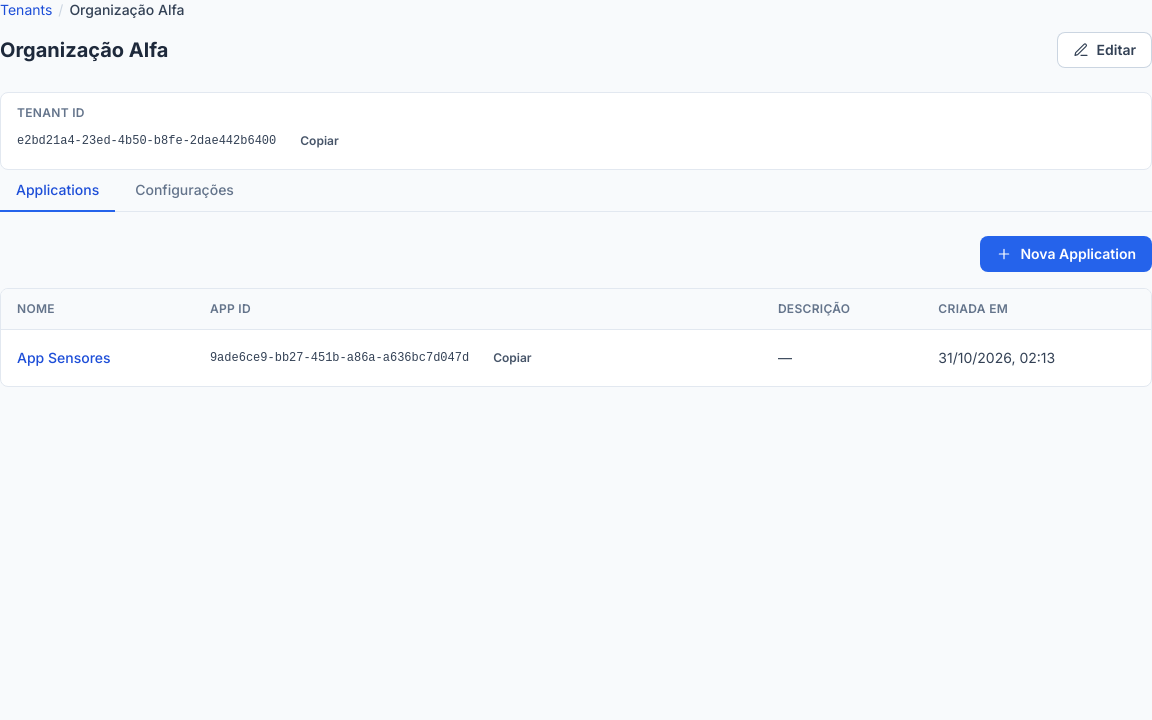
it: TenantDetailPage › creates an application under the tenant
Expected: the heading "Organização Alfa" is shown, [0,36,168,64]
Click the button "Nova Application". click: x=1066, y=254
box: [980,236,1151,272]
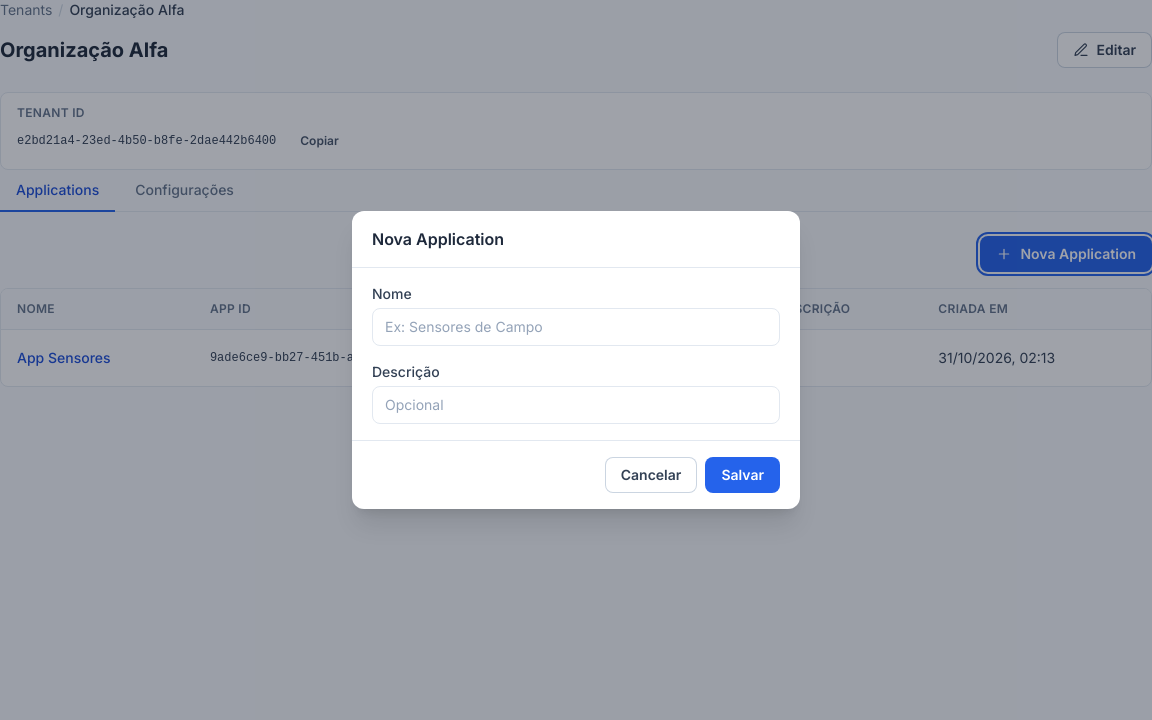
Type "App Nova" into the field labelled "Nome". click: x=576, y=327
box: [372,308,780,346]
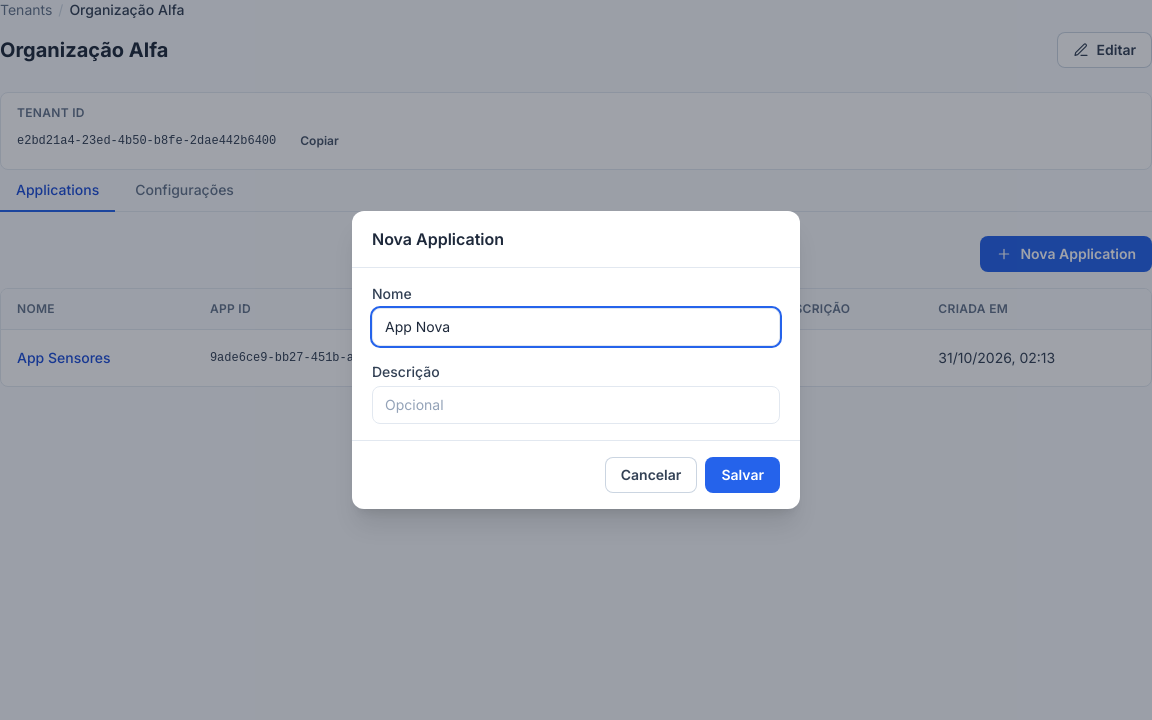
Click the button "Salvar". click: x=743, y=475
box: [705,457,780,493]
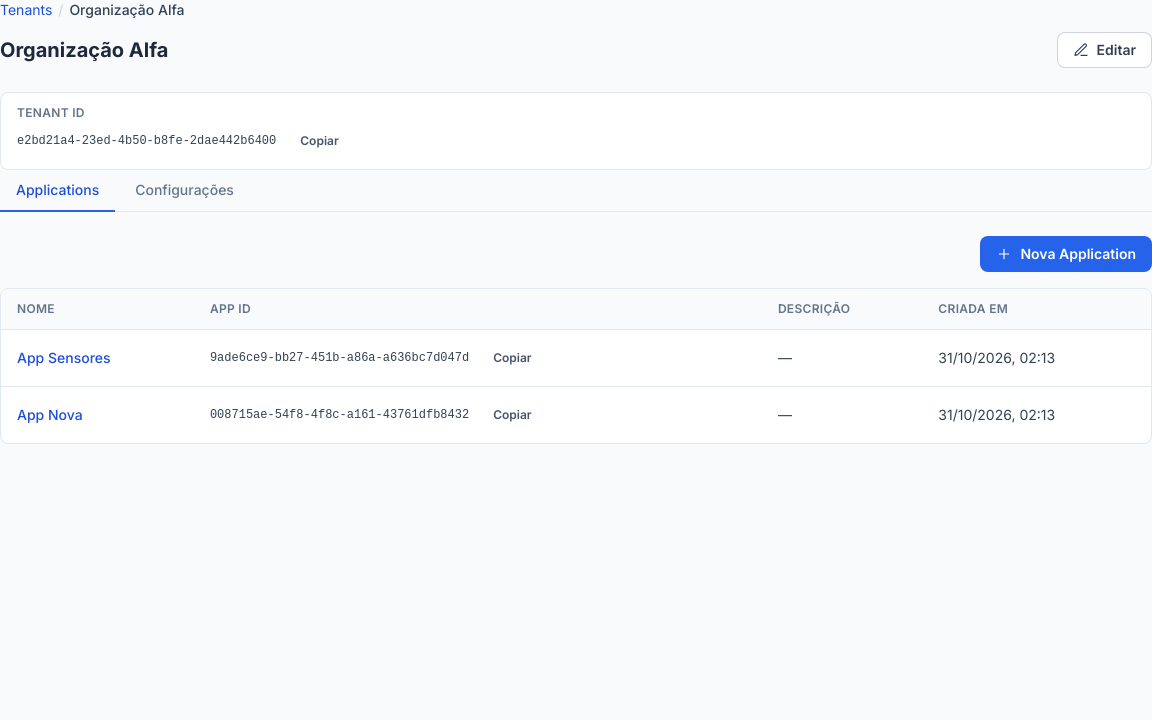
Expected: the link "App Nova" is shown, [17,406,83,423]
